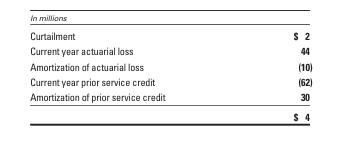table: (29, 28, 311, 122)
table column: (29, 28, 228, 122), (228, 28, 311, 122)
table row: (29, 88, 311, 106), (29, 42, 311, 58), (29, 106, 311, 122), (29, 58, 311, 73), (29, 73, 311, 88), (29, 28, 311, 42)
